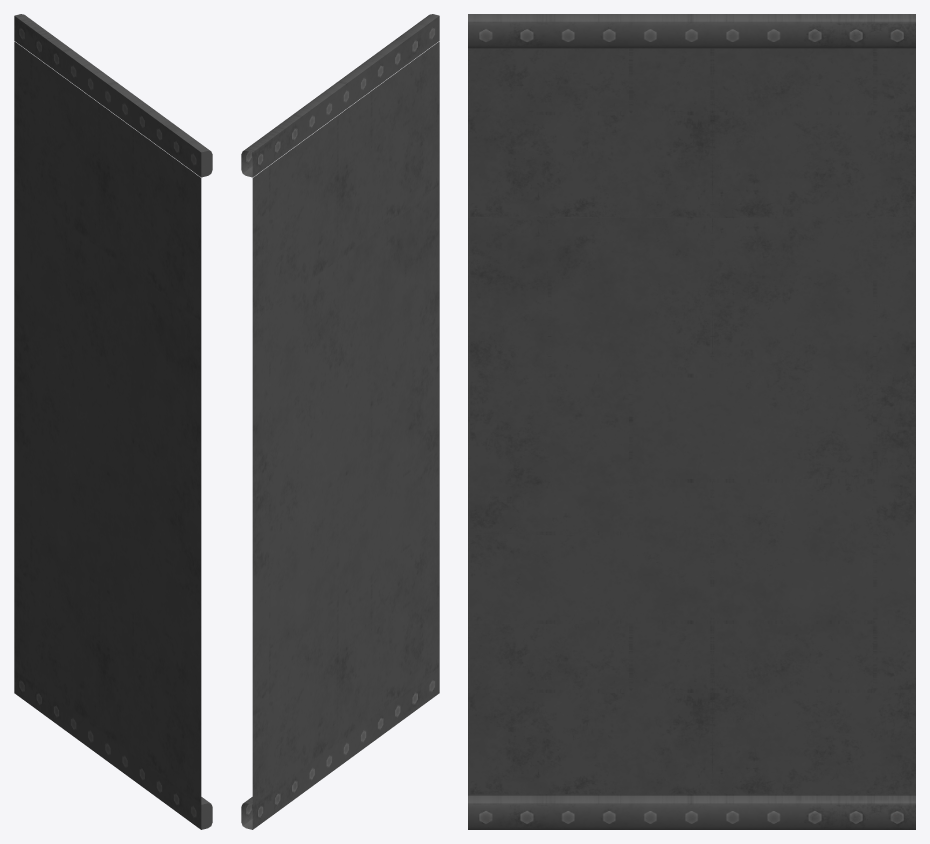
Rendered from IndustrialWallHalfl.fbx.
3 views of the same model, side by side, from view 1: azimuth 30°, elevation 25°; view 2: azimuth 150°, elevation 25°; view 3: azimuth 270°, elevation 25° (orthographic). The views are drawn at different scales.
Parts seen in each view (by area): view 1: EngineWallHalf; view 2: EngineWallHalf; view 3: EngineWallHalf.
Boxes of the visible parts, x1,y1,x2,y2 form: EngineWallHalf: [14, 14, 212, 829]; EngineWallHalf: [241, 14, 439, 829]; EngineWallHalf: [468, 14, 915, 829].
Size of the model in its own units: 8.85 by 500 by 250.
